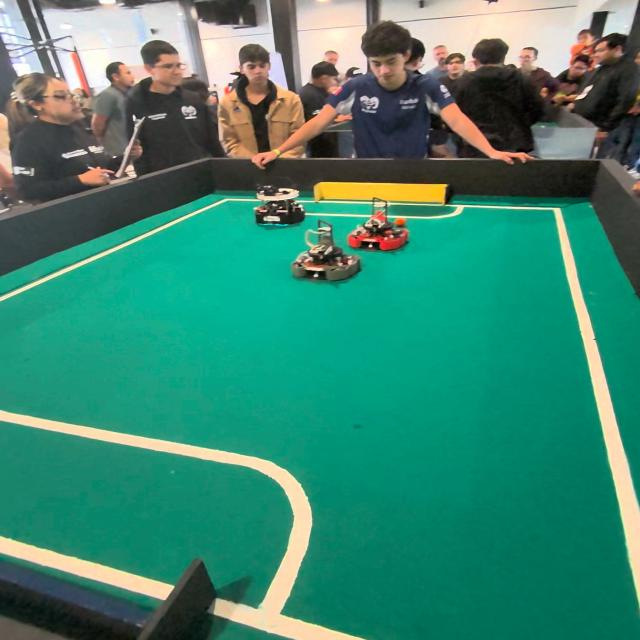Robot: (290, 224, 360, 286), (250, 180, 308, 232), (348, 210, 411, 252)
